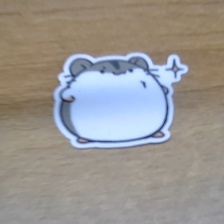mouse: (51, 48, 190, 152)
